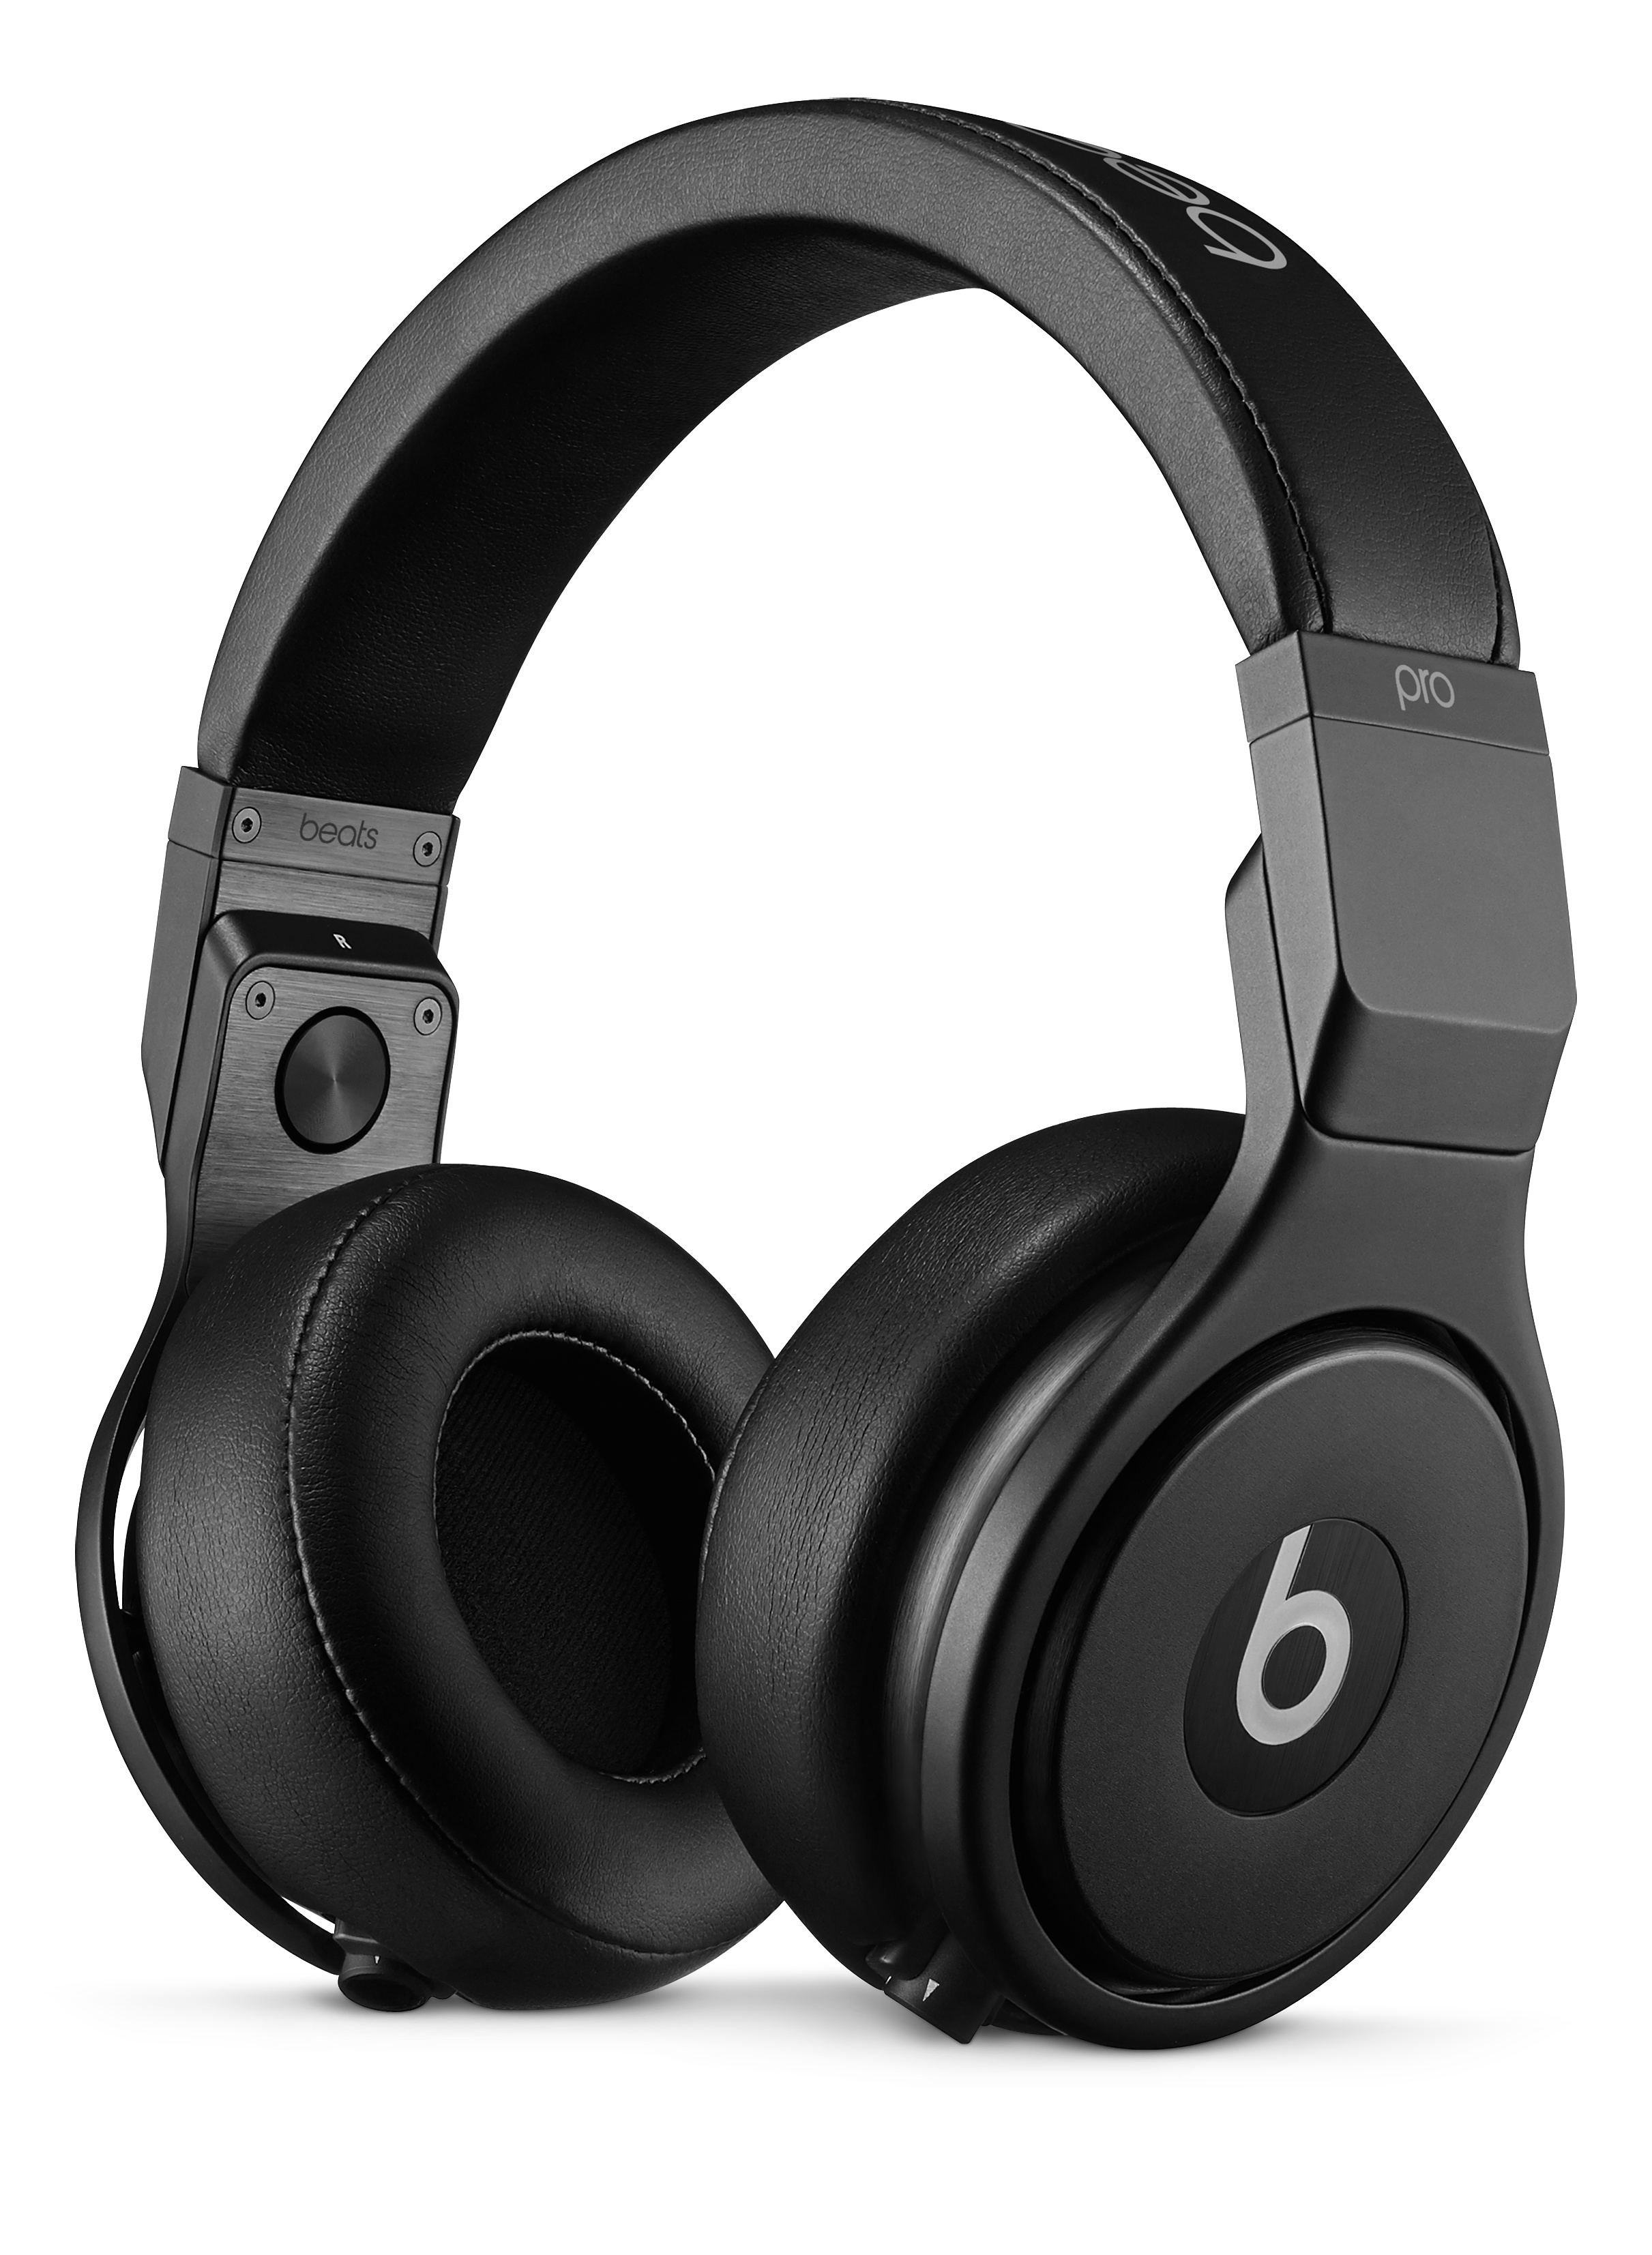Headphone: (51, 72, 1619, 2062)
